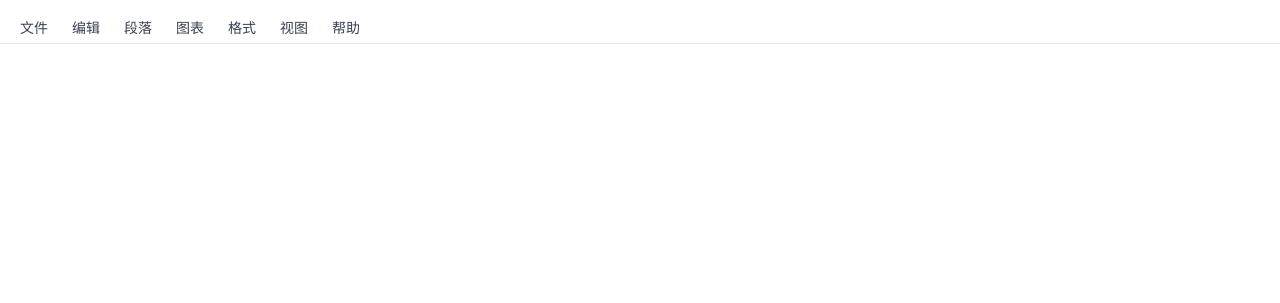
MenuBar › 点击文件菜单展开下拉
Click the button "文件".
click(34, 28)  # box [8, 14, 60, 42]
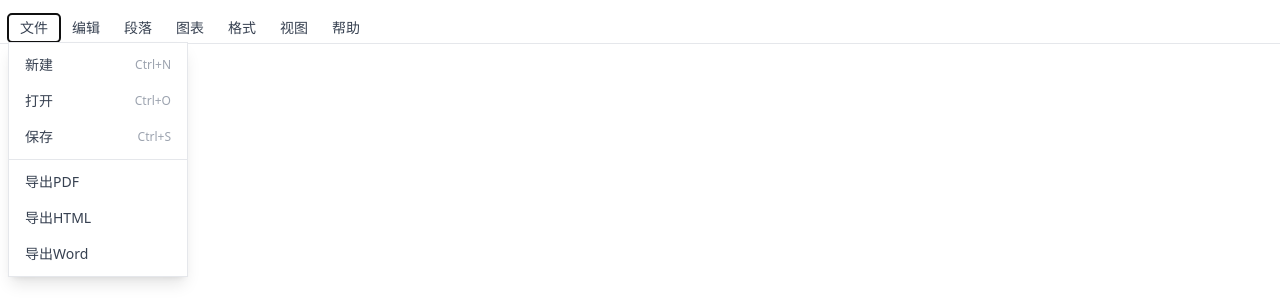
Now the text "新建" is shown, box [25, 54, 53, 74]
Now the text "打开" is shown, box [25, 90, 53, 110]
Now the text "保存" is shown, box [25, 126, 53, 146]
